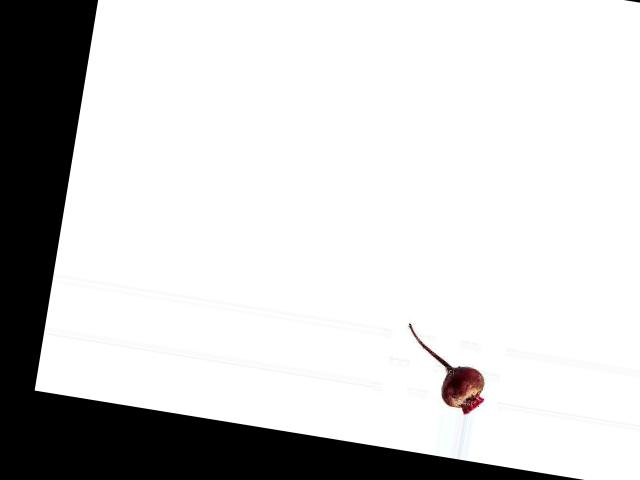beet: (395, 323, 493, 416)
